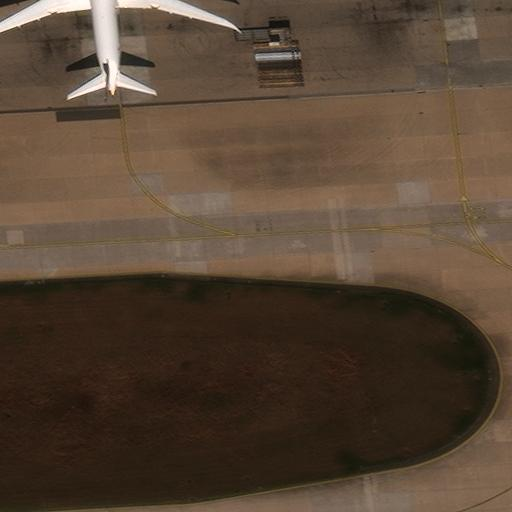Large Civil Transport: (0, 0, 233, 94)
